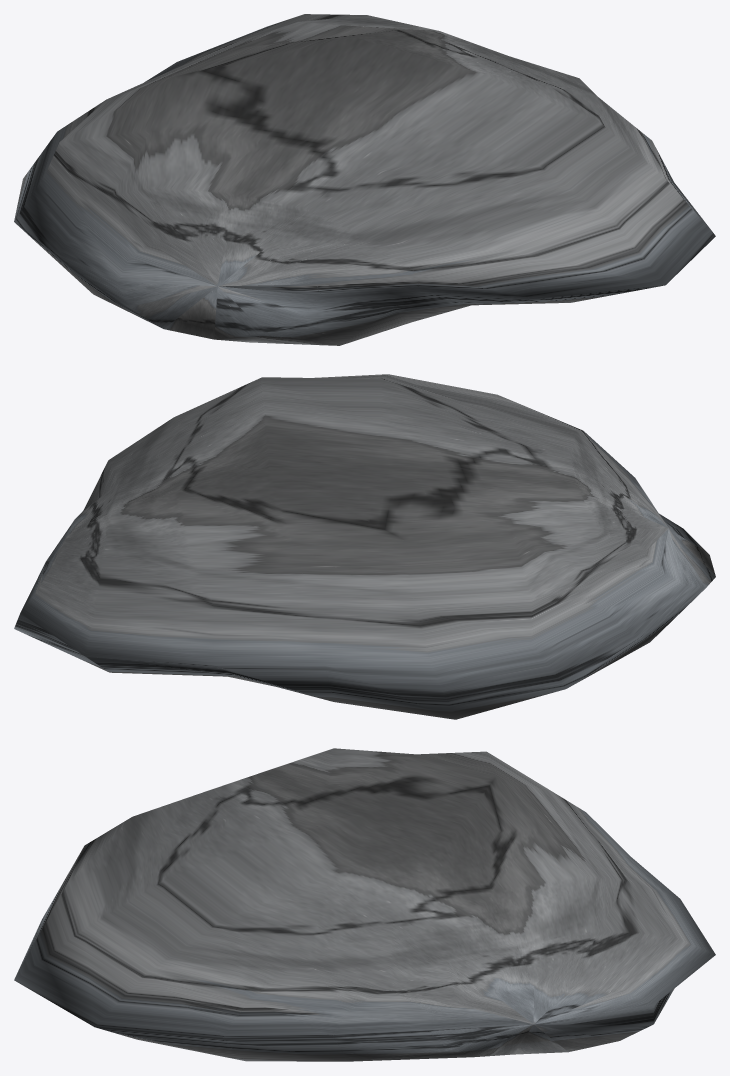
File: rock_slab_l0.gltf
3 views of the same model, one above another, from view 1: azimuth 30°, elevation 25°; view 2: azimuth 150°, elevation 25°; view 3: azimuth 270°, elevation 25° (orthographic). The views are drawn at different scales.
Parts seen in each view (by area): view 1: rock_slab_l0; view 2: rock_slab_l0; view 3: rock_slab_l0.
Part boxes in pixels (bbox=[...]): rock_slab_l0: bbox=[14, 14, 715, 345]; rock_slab_l0: bbox=[14, 374, 715, 719]; rock_slab_l0: bbox=[14, 748, 715, 1061].
Bounding box in the file's own units: 1.98 × 0.5047 × 2.31.
1 material, 1 textured.
